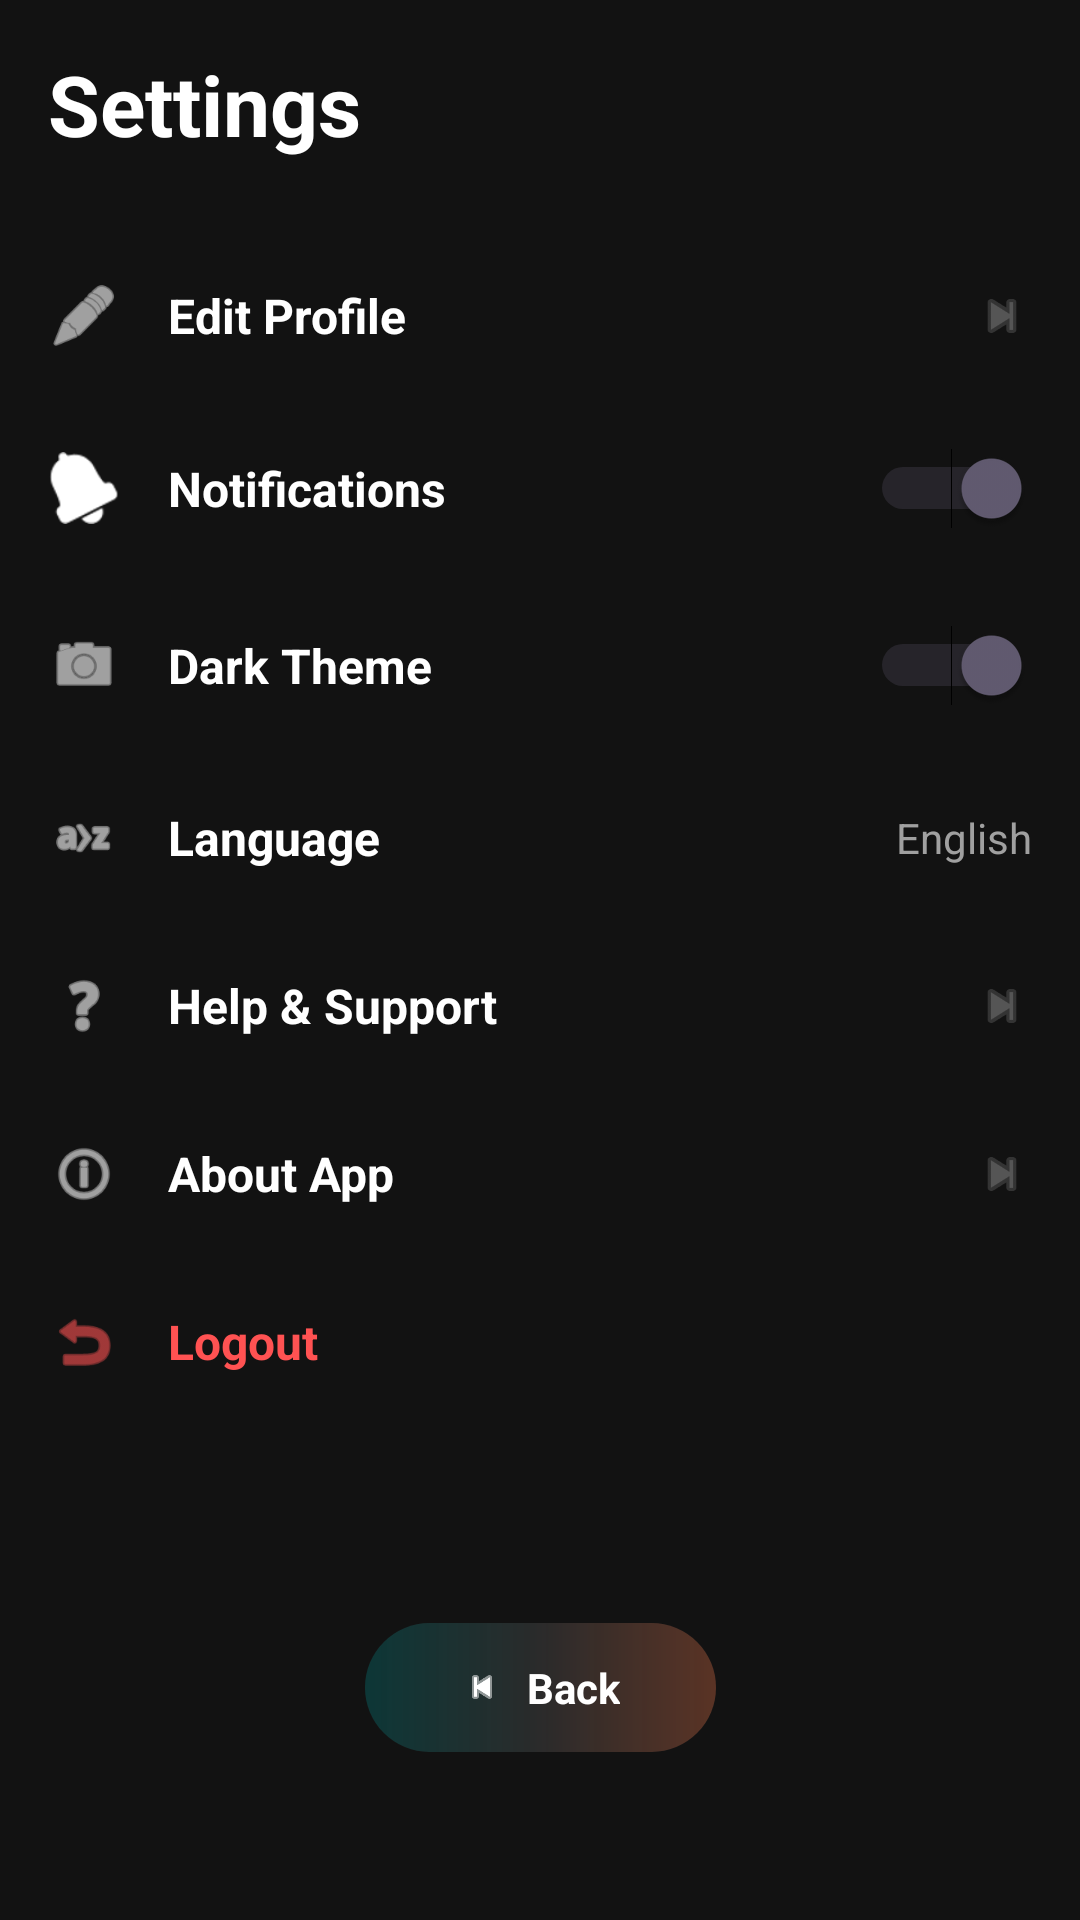

Named icons in this screenshot (1080x1920) and their centers, (x,y):
camera: (84,664)
info details: (84,1174)
next: (1002,316), (1002,1006), (1002,1174)
popup reminder: (84,488)
previous: (482,1687)
revert: (85,1342)
sort alphabetically: (83,838)
